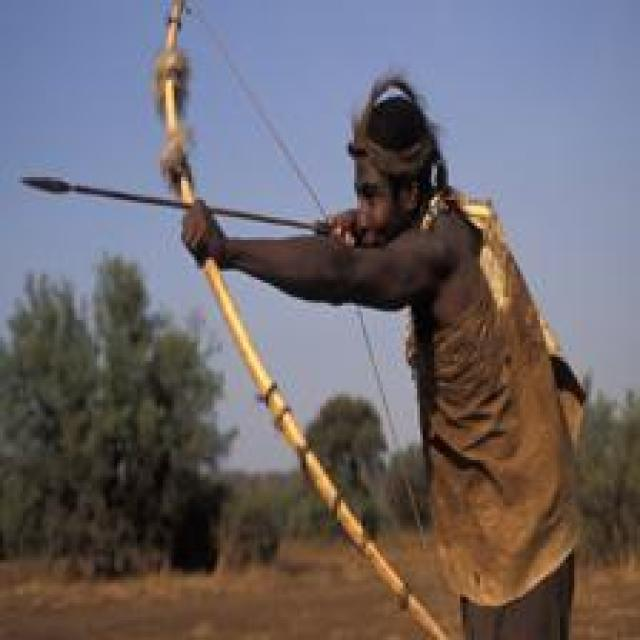X-Bow: (102, 0, 404, 640)
